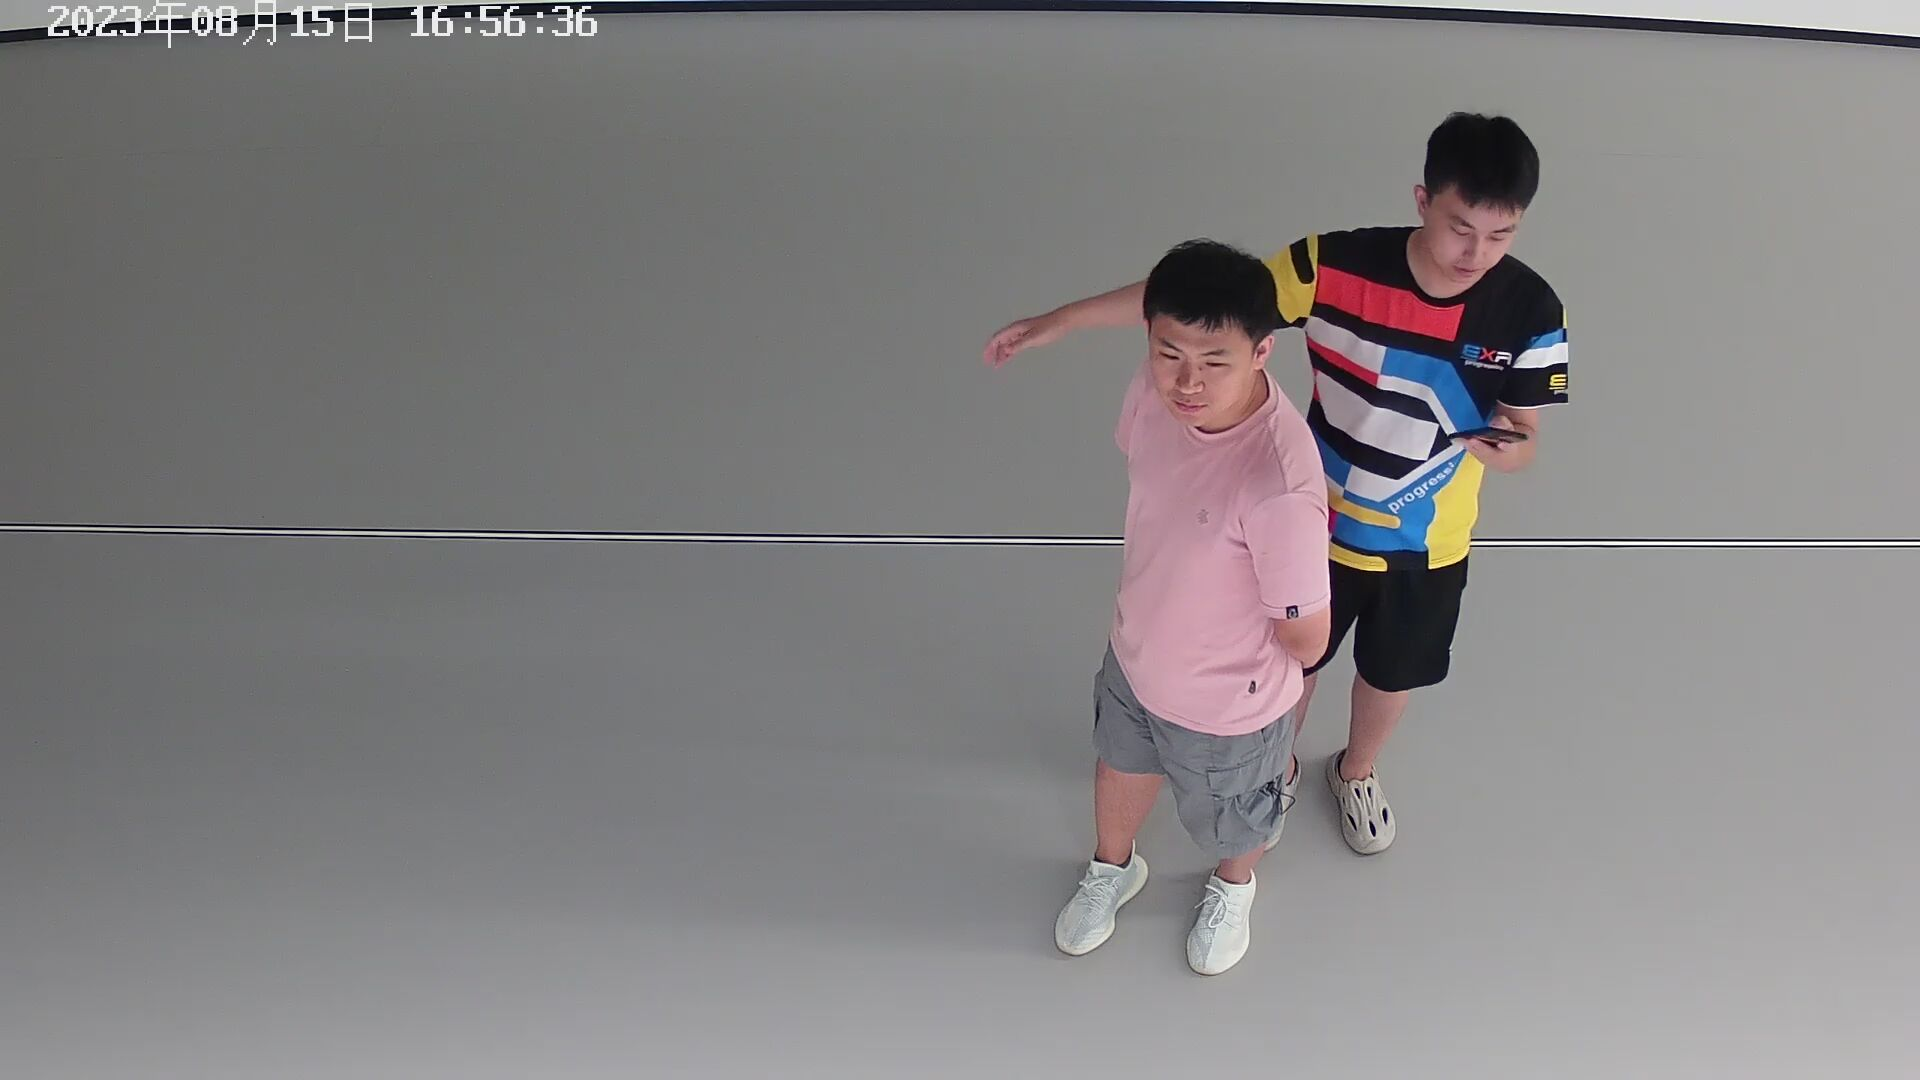normal: (940, 92, 1590, 992)
